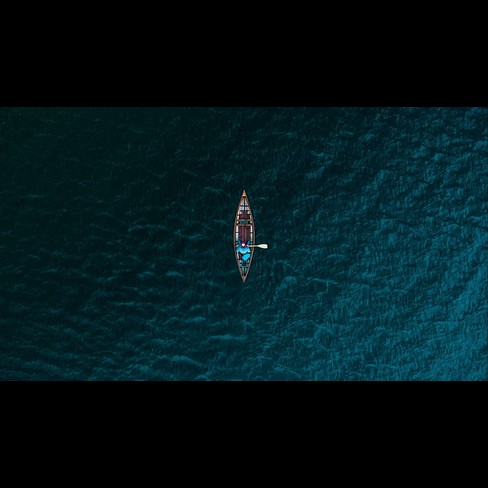boat: (226, 186, 270, 290)
